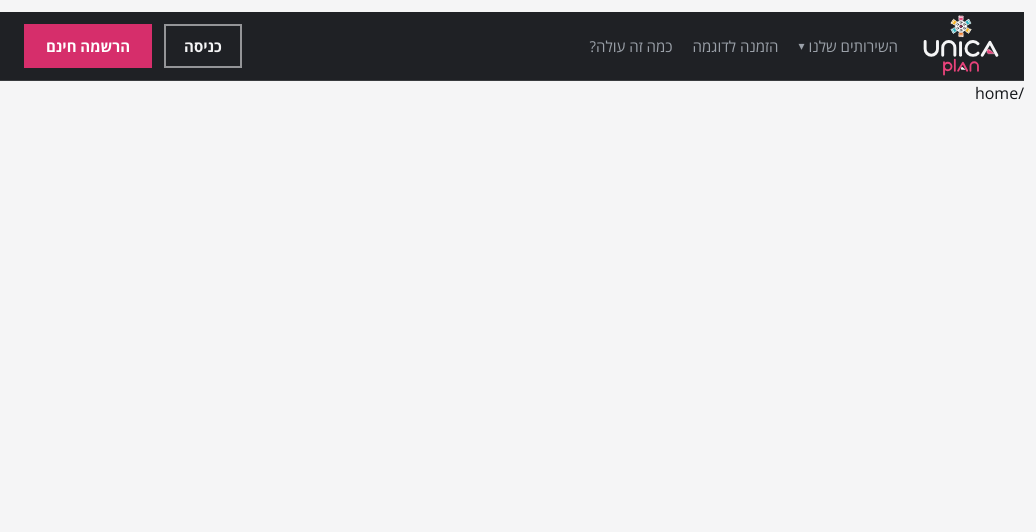
Scenario: site header — the services disclosure › Escape closes it and focus returns to the button
Click the button "השירותים שלנו ▾". click: (848, 46)
box: [798,35,898,58]
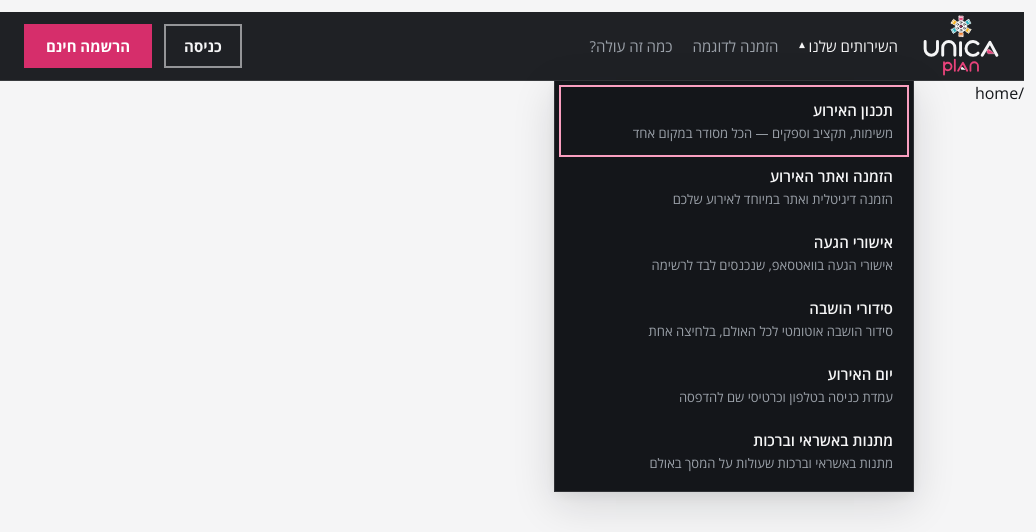
Press Escape
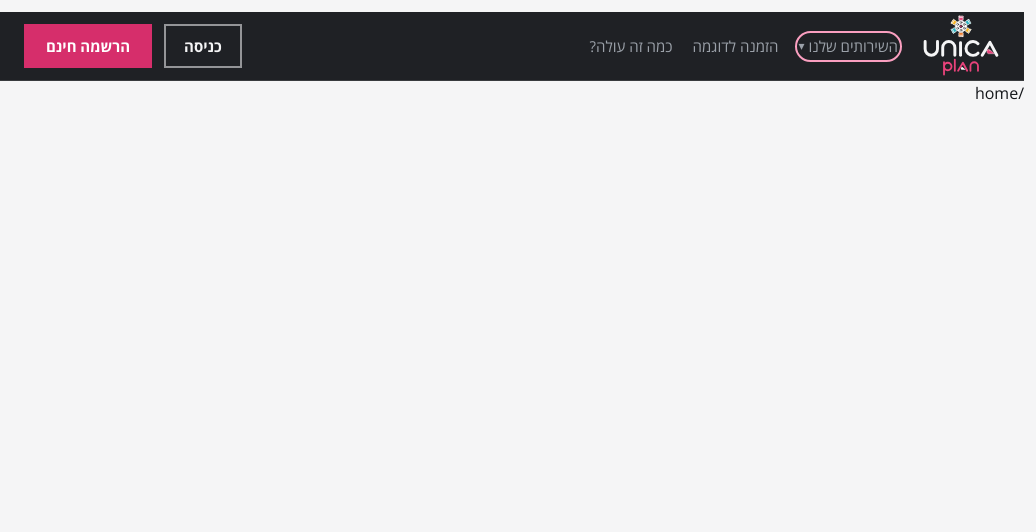
Result: the button "השירותים שלנו ▾" is collapsed at [798,35,898,58]
